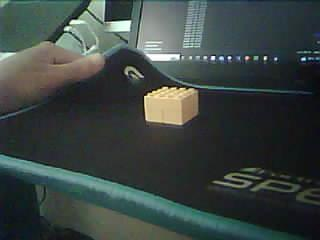lego: (144, 85, 199, 125)
